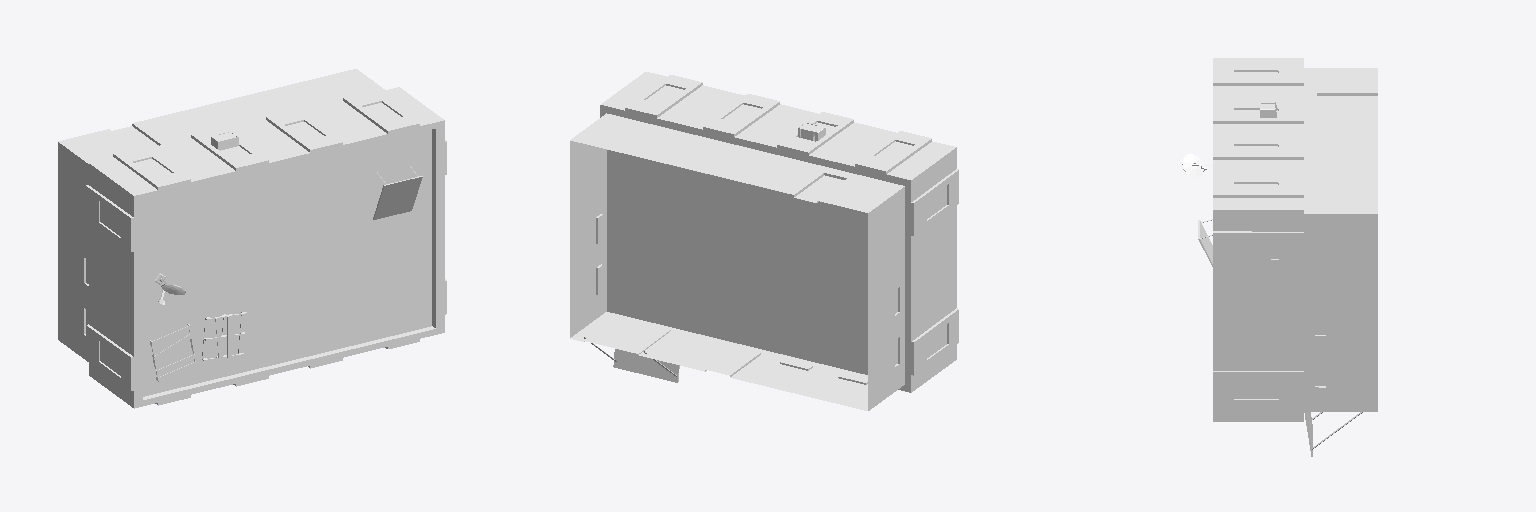
The model's file is building3.obj.
The picture shows the model from 3 angles: view 1: azimuth 30°, elevation 25°; view 2: azimuth 150°, elevation 25°; view 3: azimuth 270°, elevation 25°; orthographic projection.
Parts seen in each view (by area): view 1: Building3_006; view 2: Building3_006; view 3: Building3_006.
Boxes of the visible parts, x1=… form: Building3_006: x1=58, y1=69, x2=446, y2=408; Building3_006: x1=570, y1=72, x2=958, y2=410; Building3_006: x1=1182, y1=58, x2=1377, y2=456.
Bounding box in the file's own units: 12.81 × 10.31 × 6.88.